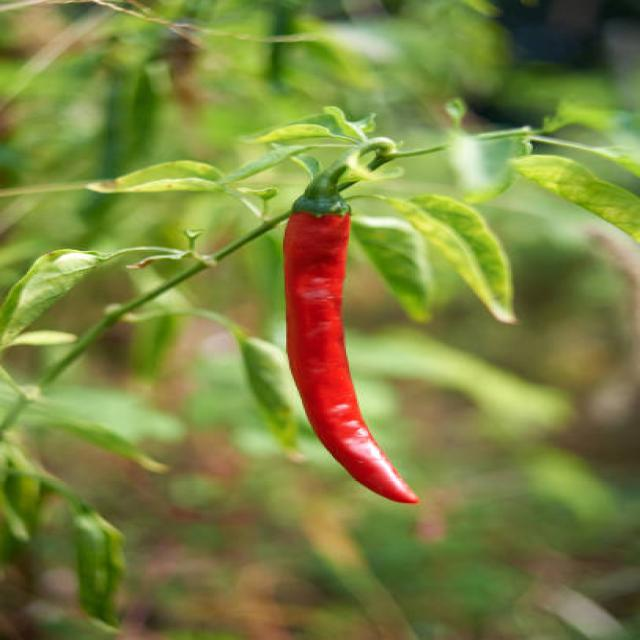Ripe: (273, 131, 427, 514)
